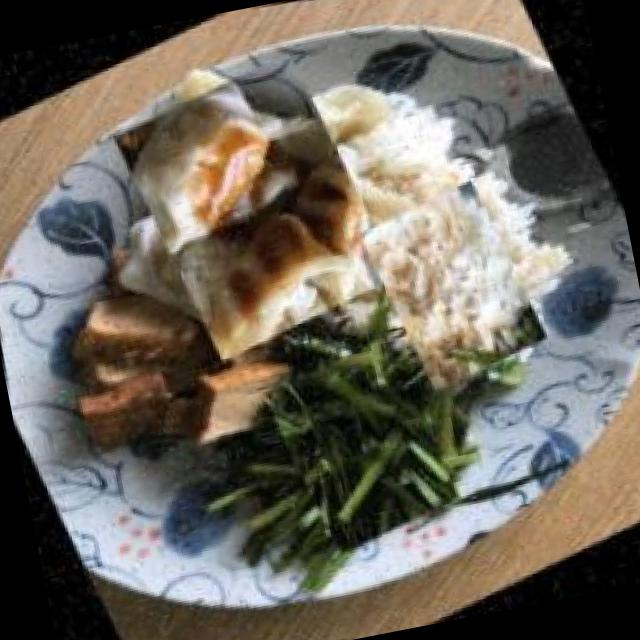fried_dumplings: (81, 32, 428, 378)
rice: (336, 172, 568, 404)
water_spinach: (242, 326, 482, 566)
